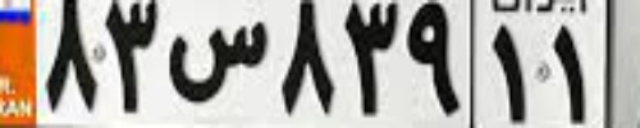1: (551, 22, 587, 123), (491, 22, 527, 122)
3: (101, 0, 165, 113), (342, 1, 397, 115)
8: (281, 0, 335, 113), (44, 0, 97, 109)
9: (406, 1, 459, 115)
sin: (167, 21, 271, 105)
